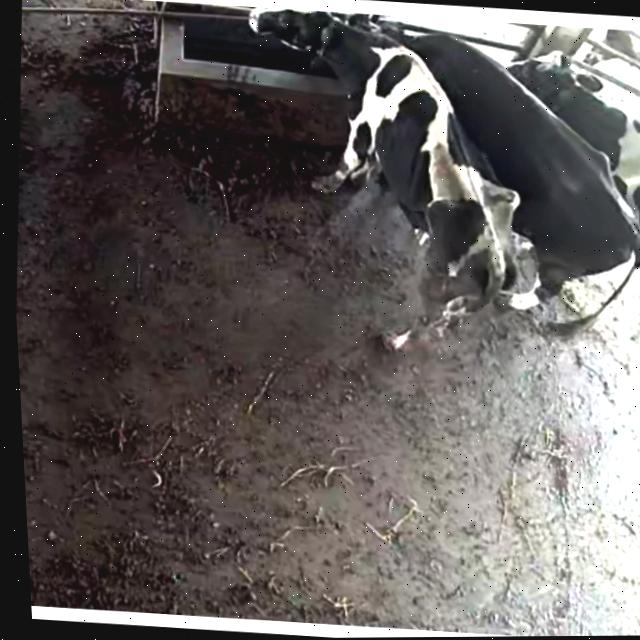drink: (334, 11, 475, 82), (233, 3, 349, 82)
